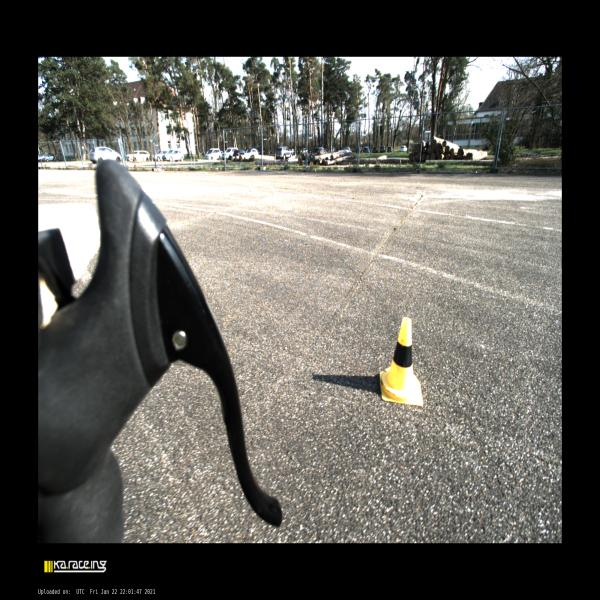yellow_cone: (380, 317, 423, 406)
